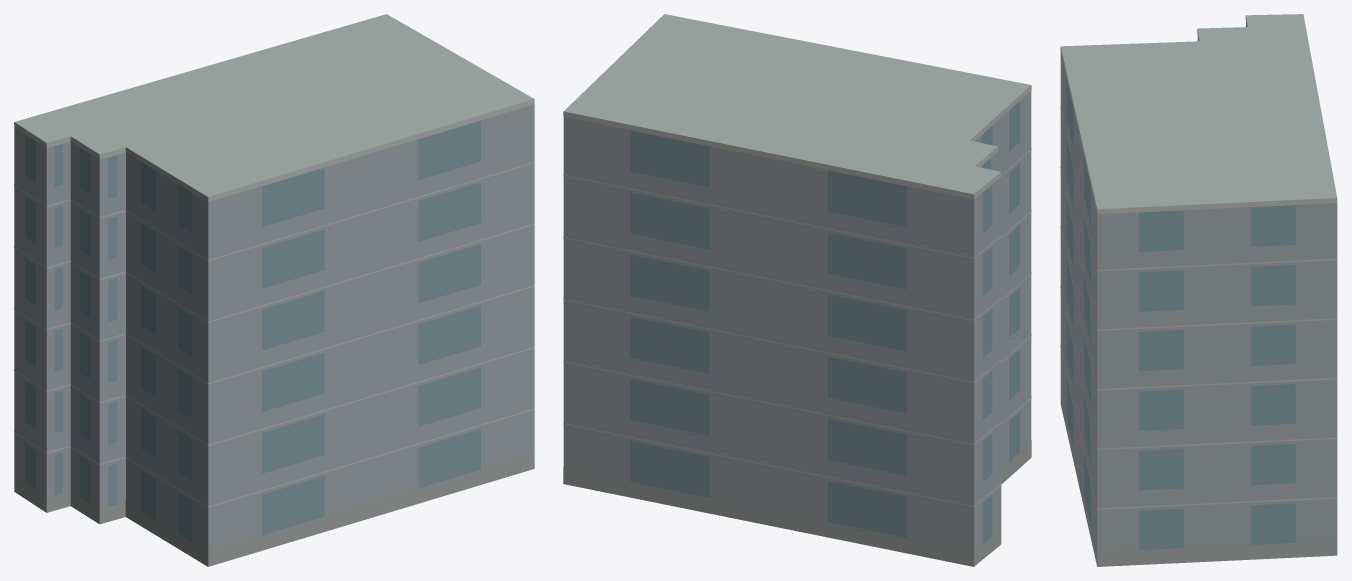
The model's file is survey-upis-32934584.glb.
3 views of the same model, side by side, from view 1: azimuth 30°, elevation 25°; view 2: azimuth 150°, elevation 25°; view 3: azimuth 270°, elevation 25° (orthographic). The views are drawn at different scales.
Visible parts, largest first — view 1: survey-upis-32934584.tmp; view 2: survey-upis-32934584.tmp; view 3: survey-upis-32934584.tmp.
Part boxes in pixels (box(x1,y1,x2,y2)): survey-upis-32934584.tmp: box(14, 14, 534, 566); survey-upis-32934584.tmp: box(563, 14, 1031, 566); survey-upis-32934584.tmp: box(1060, 14, 1337, 566).
Size of the model in its own units: 20.28 by 17.3 by 12.15.
